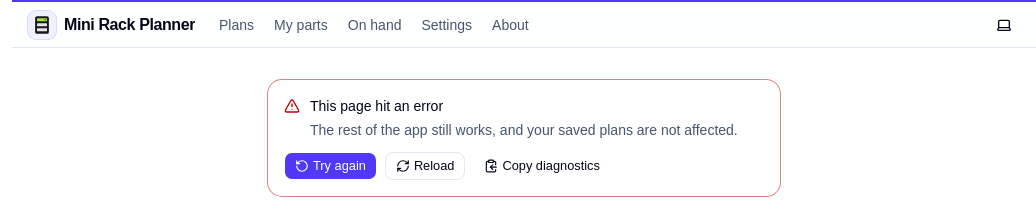
Test: AppLayout › keeps the header when a page crashes, and clears the error on navigation
Expected: the message shows "This page hit an error", [310, 98, 443, 114]
Step 1. Click the link "About" → (510, 24), box [492, 16, 529, 32]
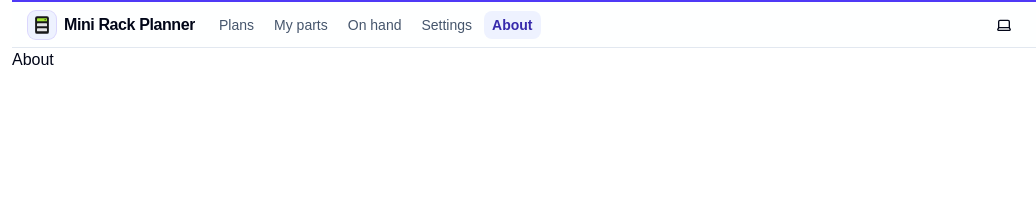
Now the heading "About" is shown, box [12, 51, 54, 68]
Now the message is gone
